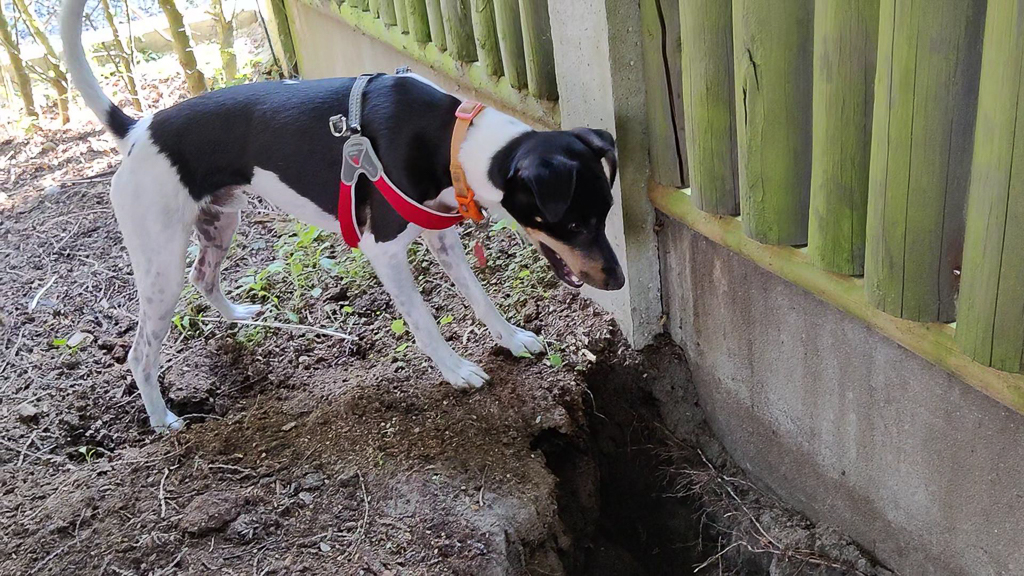Dog: (39, 0, 645, 451)
